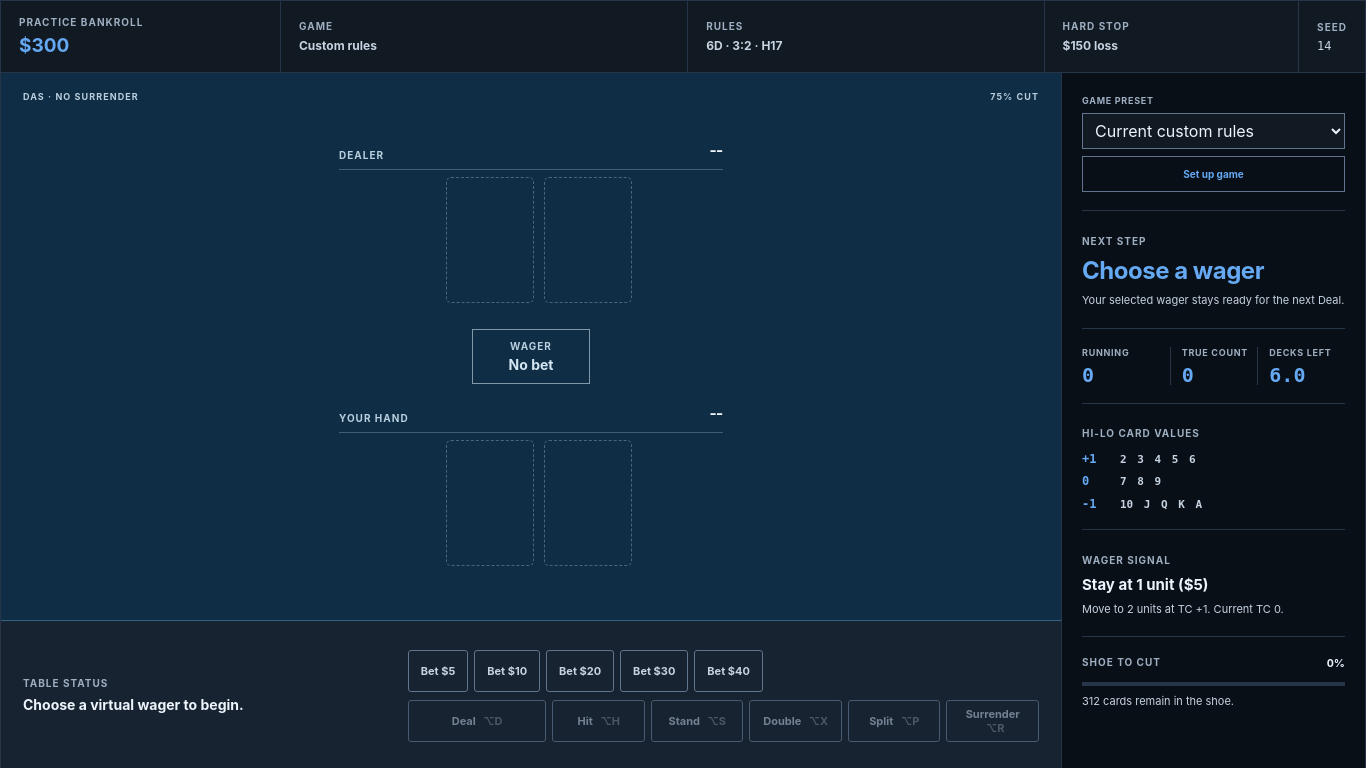
Test: BlackjackTable › shows and focuses insurance between the hands
What coordinates should you click on to do the following:
click the button "Bet $5"
I would click on:
 (438, 671)
Its box is [408, 650, 468, 692].
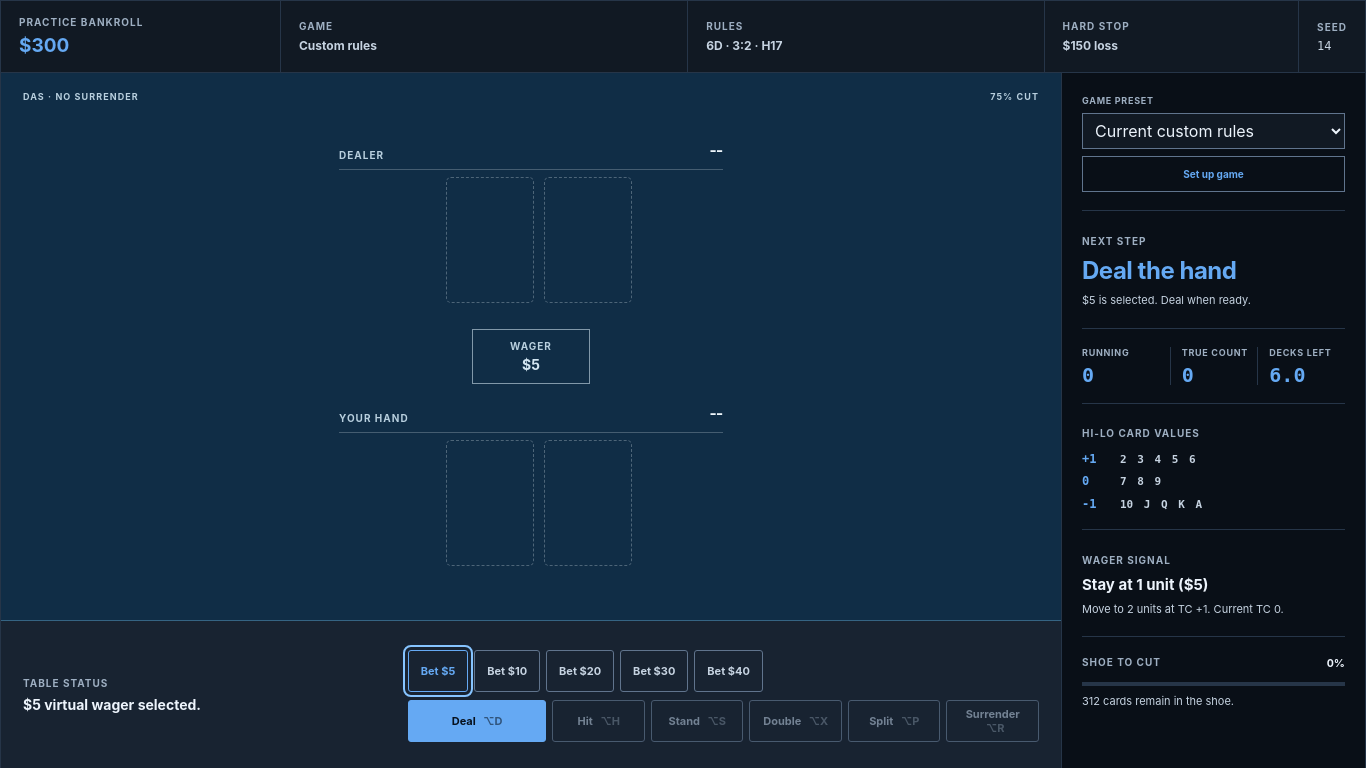
What coordinates should you click on to do the following:
click the button "Deal ⌥D"
I would click on:
 (477, 721)
Its box is [408, 700, 546, 742].
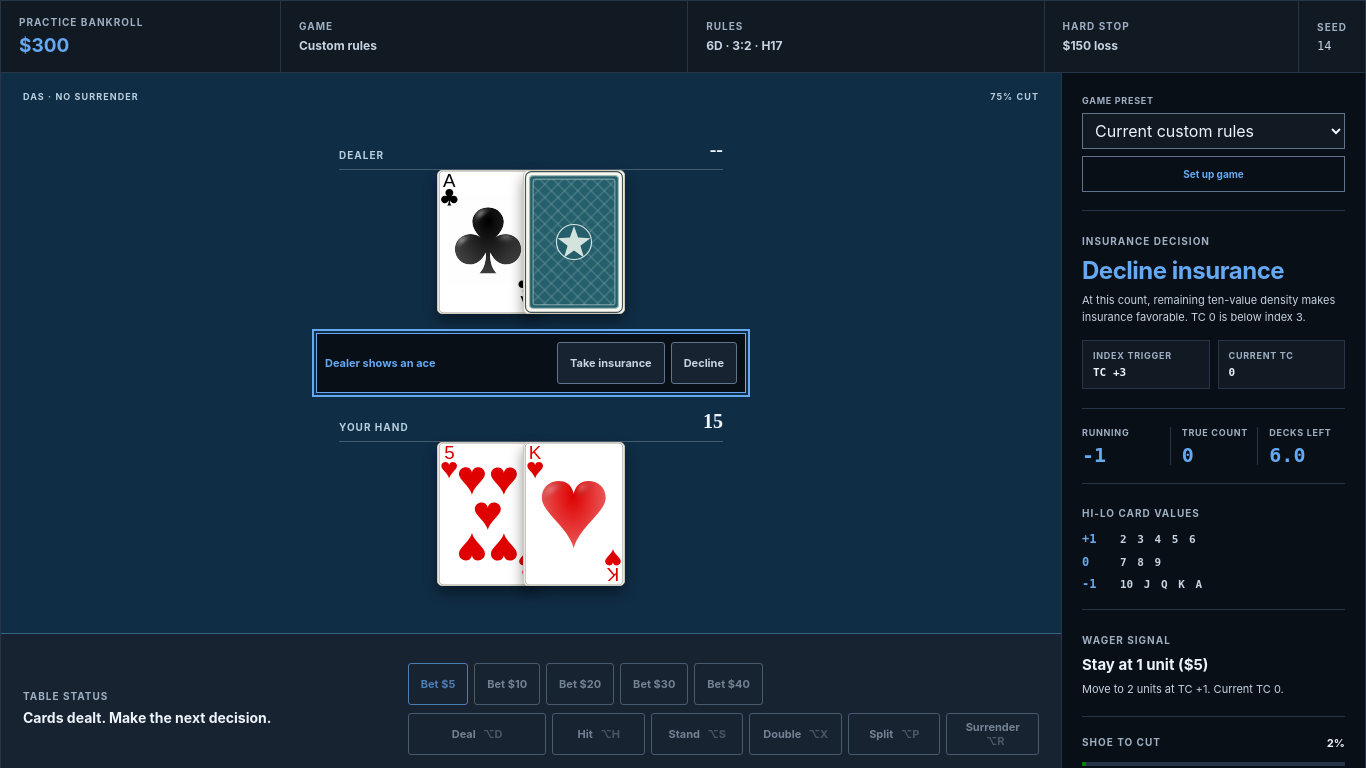
Now the element named "Insurance decision" is shown, box [316, 333, 746, 393]
